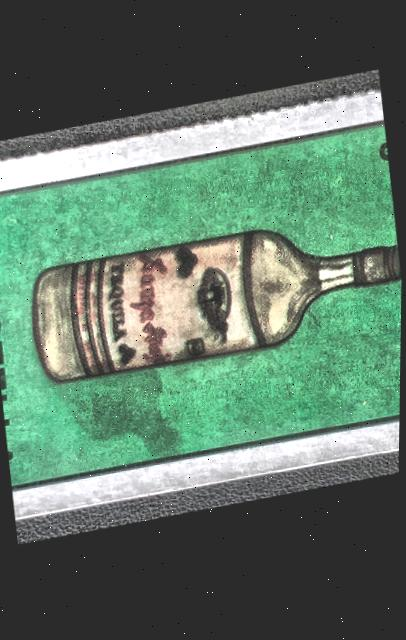La Botella: (0, 101, 405, 515)
